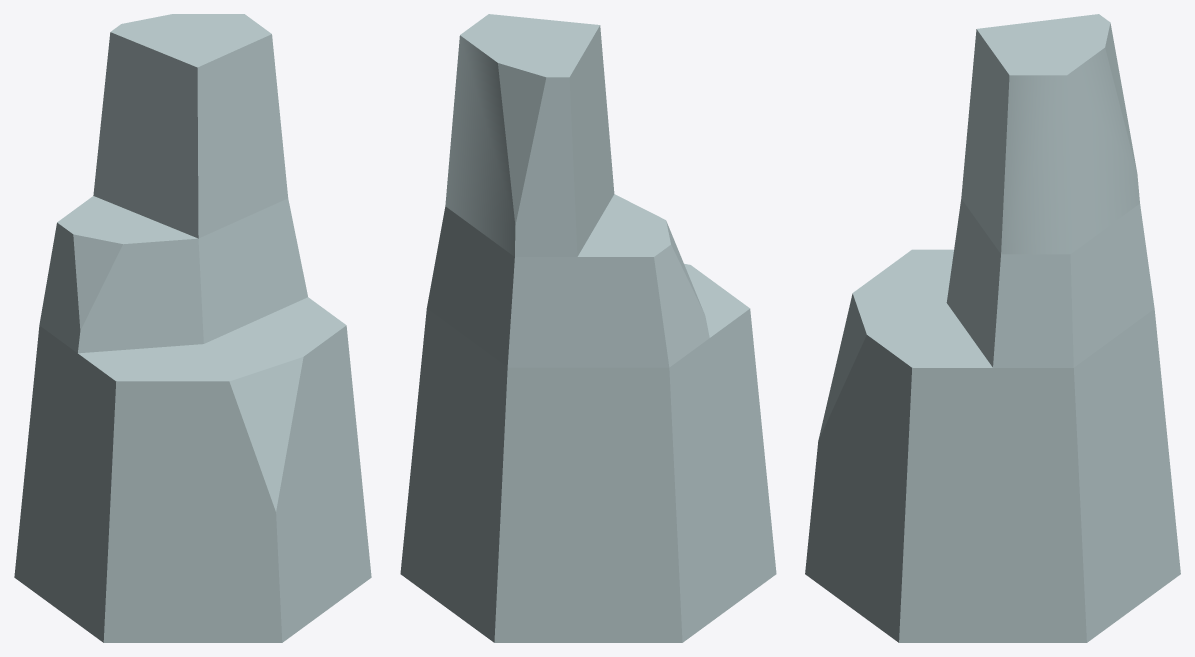
The model's file is stone_tallG.gltf.
3 renders of one model, left to right at view 1: azimuth 30°, elevation 25°; view 2: azimuth 150°, elevation 25°; view 3: azimuth 270°, elevation 25°, orthographic. The views are drawn at different scales.
Parts seen in each view (by area): view 1: stone_tallG; view 2: stone_tallG; view 3: stone_tallG.
Boxes of the visible parts, x1,y1,x2,y2 form: stone_tallG: (14, 14, 371, 642); stone_tallG: (400, 14, 776, 642); stone_tallG: (805, 14, 1180, 642).
Bounding box in the file's own units: 0.4249 × 0.7829 × 0.4907.
